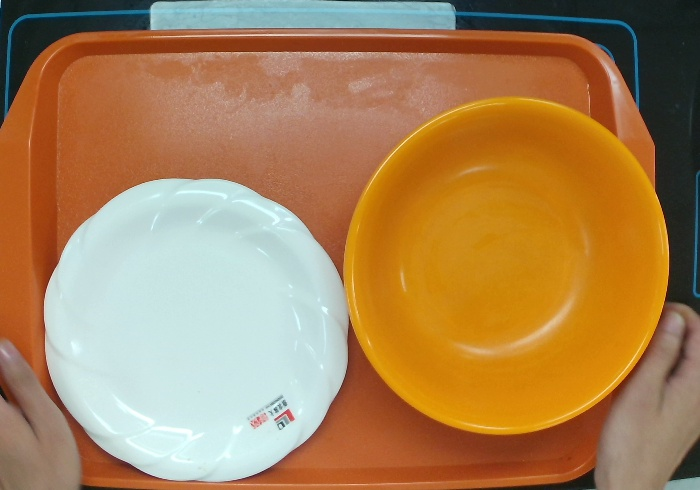ZNLD-Hua_Bian_Wan: (38, 172, 349, 487)
ZNLD-Ju_Se_Tang_Wan: (342, 94, 669, 432)
